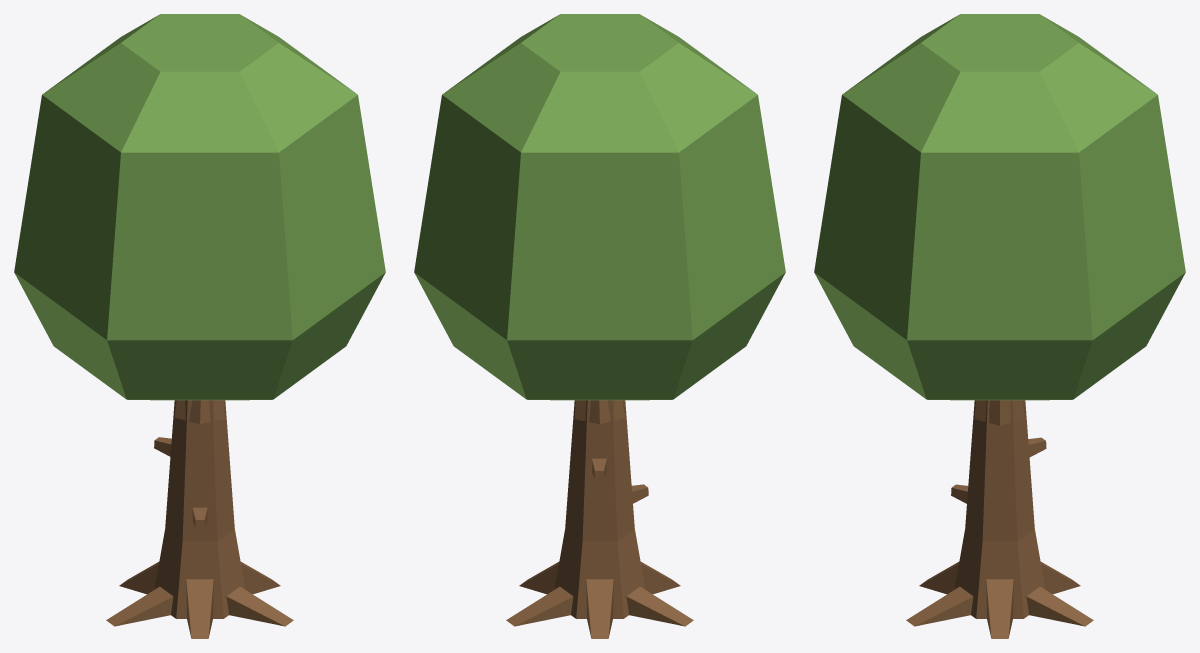
Rendered from oak.glb.
The picture shows the model from 3 angles, left to right: view 1: azimuth 30°, elevation 25°; view 2: azimuth 150°, elevation 25°; view 3: azimuth 270°, elevation 25°; orthographic projection.
Visible parts, largest first — view 1: Leaves, Branches; view 2: Leaves, Branches; view 3: Leaves, Branches.
Boxes of the visible parts, bbox=[...] form: Leaves: bbox=[14, 14, 385, 400]; Branches: bbox=[106, 400, 293, 638]; Leaves: bbox=[414, 14, 785, 400]; Branches: bbox=[506, 400, 693, 638]; Leaves: bbox=[814, 14, 1185, 400]; Branches: bbox=[906, 400, 1093, 638].
Bounding box in the file's own units: 1.78 × 3.4 × 2.05.
